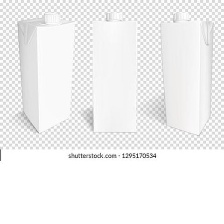carton: (14, 9, 78, 135), (156, 11, 218, 139), (87, 8, 146, 136)
